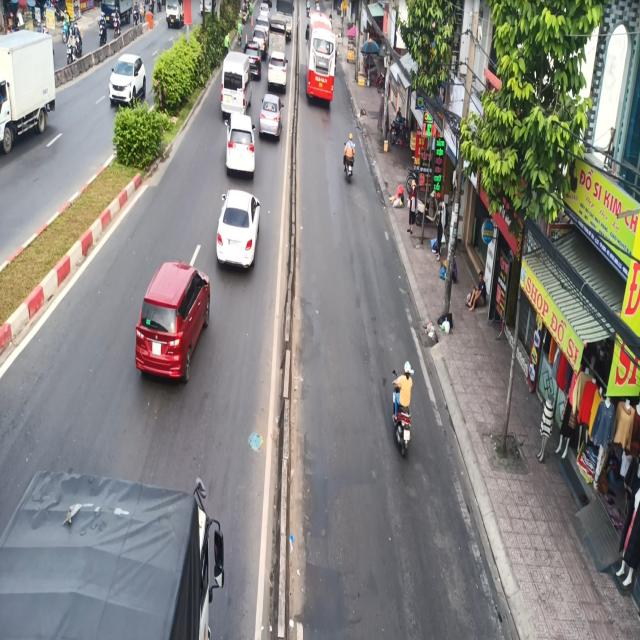bus: (305, 9, 337, 111)
car: (132, 253, 215, 392), (213, 180, 261, 282), (222, 109, 256, 178), (220, 51, 254, 120), (260, 94, 284, 144)
motor: (387, 351, 415, 462), (339, 133, 356, 196)
